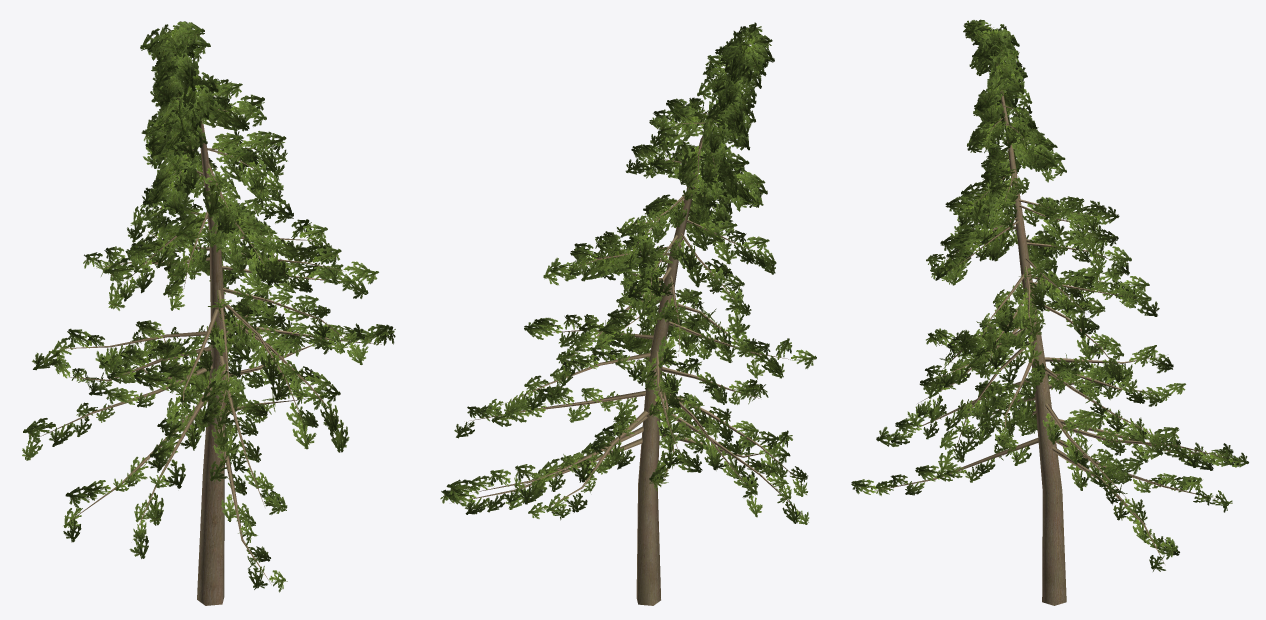
Rendered from ez-pine-02-medium.glb.
3 renders of one model, left to right at view 1: azimuth 30°, elevation 25°; view 2: azimuth 150°, elevation 25°; view 3: azimuth 270°, elevation 25°, orthographic. The views are drawn at different scales.
Visible parts, largest first — view 1: leaves, branches; view 2: leaves, branches; view 3: leaves, branches.
Part boxes in pixels (x1,y1,x2,y2): leaves: [22, 21, 395, 592]; branches: [33, 32, 381, 605]; leaves: [440, 22, 816, 524]; branches: [452, 43, 803, 605]; leaves: [851, 19, 1248, 571]; branches: [874, 25, 1233, 605].
Bounding box in the file's own units: 28.49 × 49.9 × 32.91.
2 materials, 2 textured.
